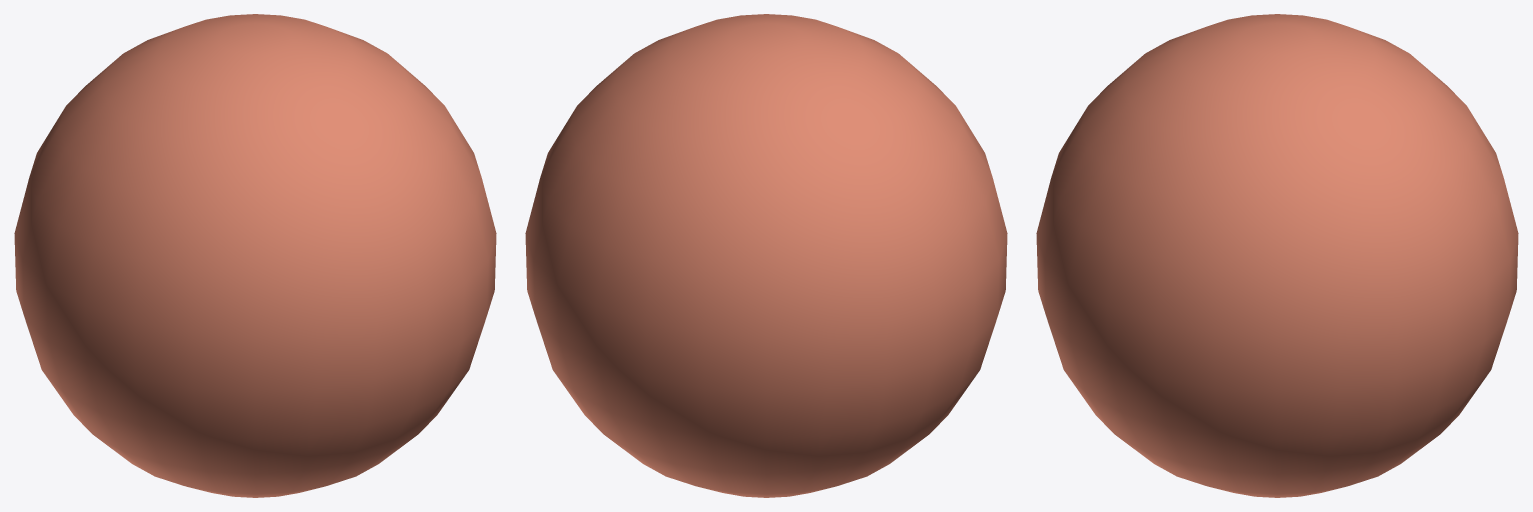
The model's file is Ball_red_01.glb.
3 views of the same model, side by side, from view 1: azimuth 30°, elevation 25°; view 2: azimuth 150°, elevation 25°; view 3: azimuth 270°, elevation 25° (orthographic).
Visible parts, largest first — view 1: Mesh1 Ball_red Model; view 2: Mesh1 Ball_red Model; view 3: Mesh1 Ball_red Model.
Part boxes in pixels (bbox=[...]): Mesh1 Ball_red Model: bbox=[14, 14, 496, 497]; Mesh1 Ball_red Model: bbox=[525, 14, 1007, 497]; Mesh1 Ball_red Model: bbox=[1036, 14, 1518, 497].
Size of the model in its own units: 0.2099 by 0.2096 by 0.2099.
